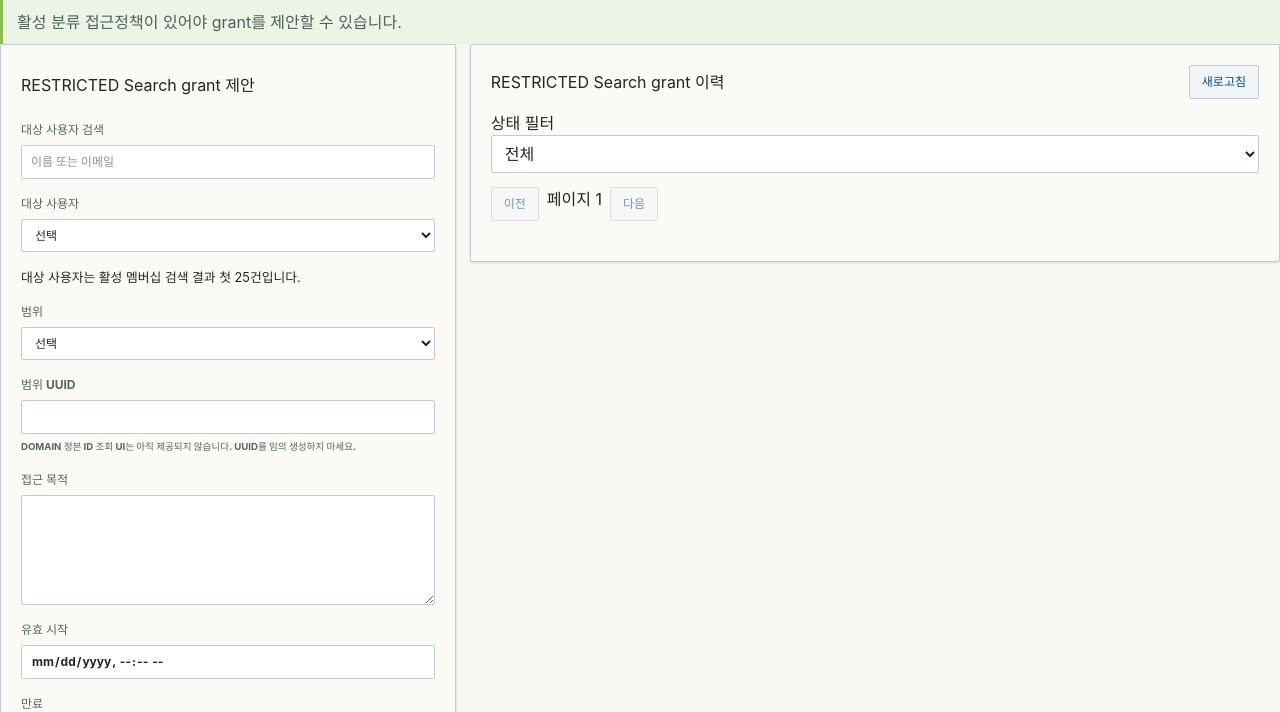
Scenario: RestrictedSearchGrantAdmin › does not let an older grant load overwrite a newer refresh
The width and height of the screenshot is (1280, 712).
Click the button "새로고침" at (1224, 82), box x1=1189 y1=65 x2=1259 y2=99
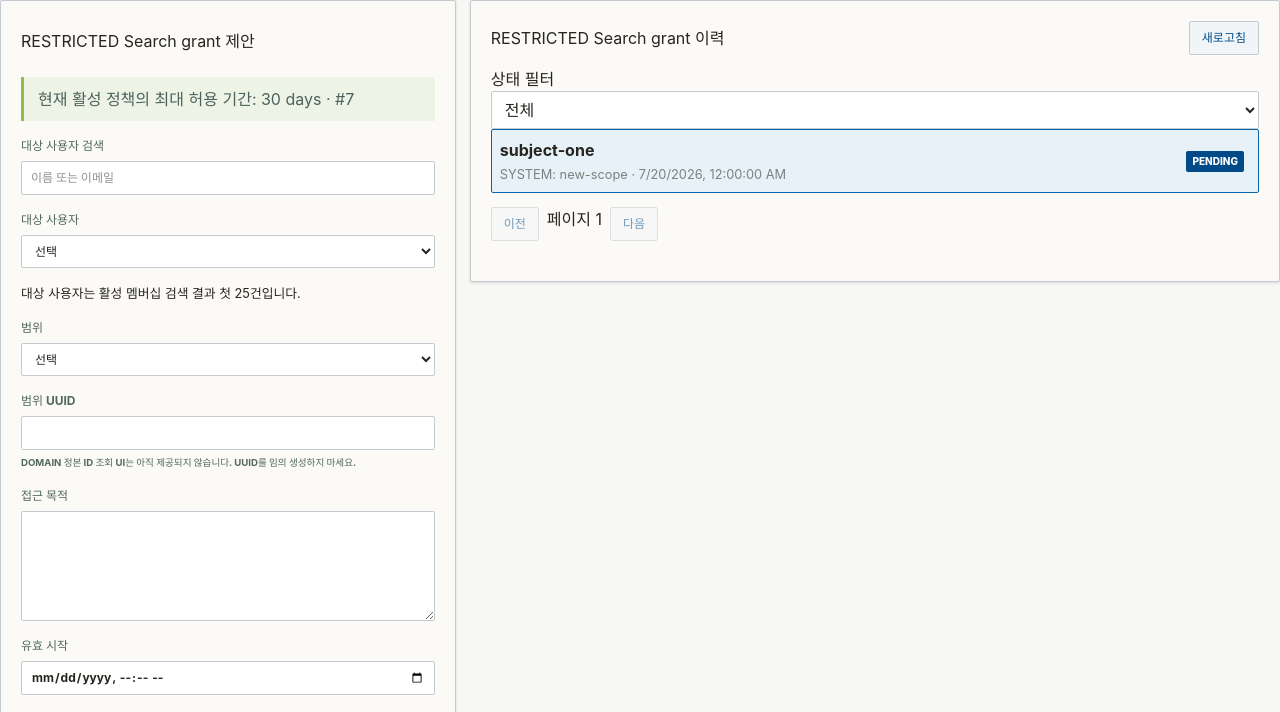
Expected: the text "SYSTEM: new-scope · 7/20/2026, 12:00:00 AM" is shown, x1=500 y1=165 x2=786 y2=184
